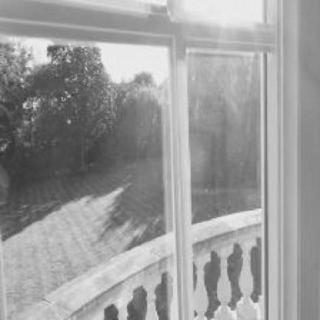other: (95, 48, 177, 88)
